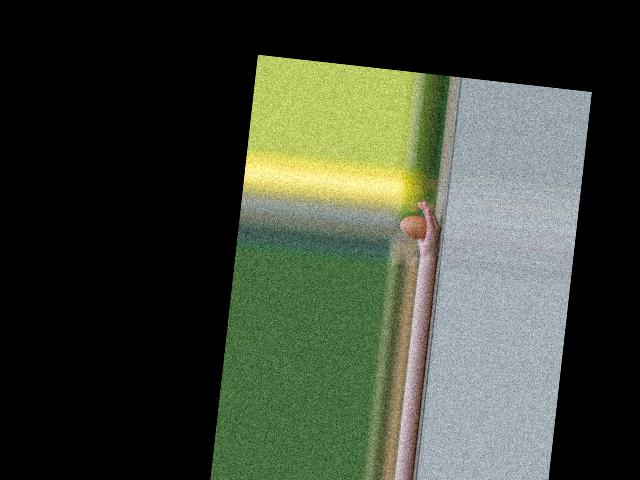egg: (399, 214, 428, 241)
